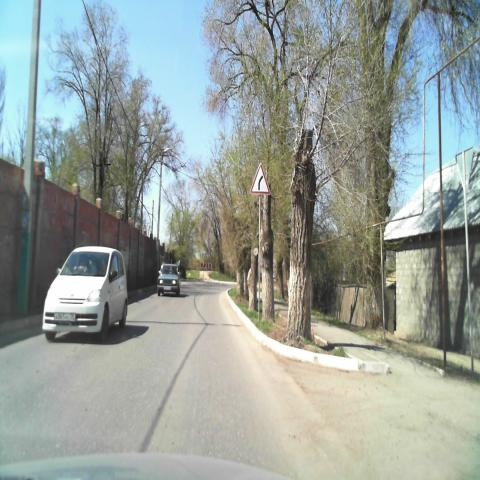1_11: (250, 160, 270, 195)
